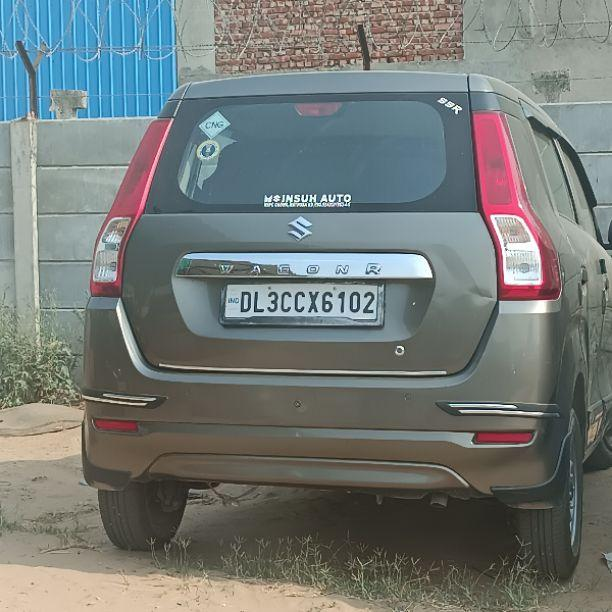license_plate: (218, 280, 385, 327)
